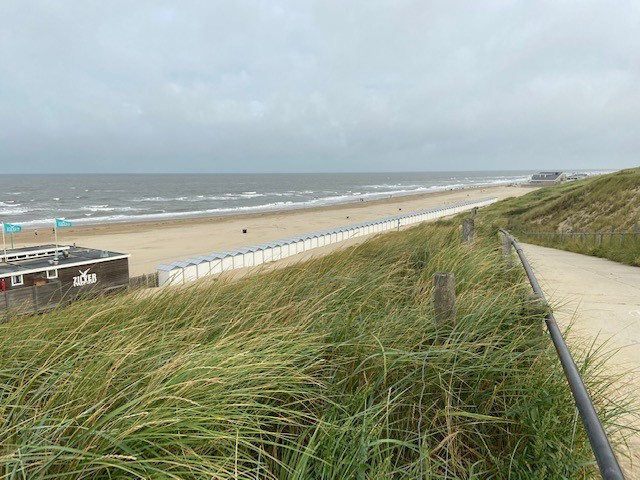pad: (497, 222, 640, 465)
